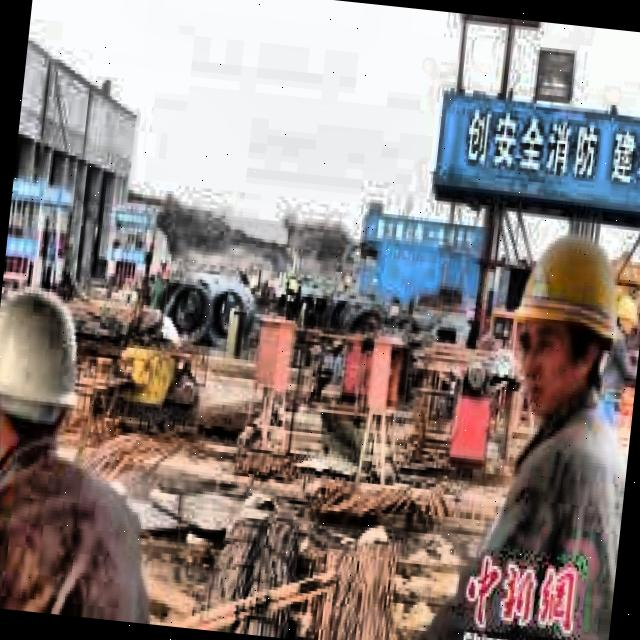helmet: (486, 210, 636, 436), (0, 255, 103, 478)
